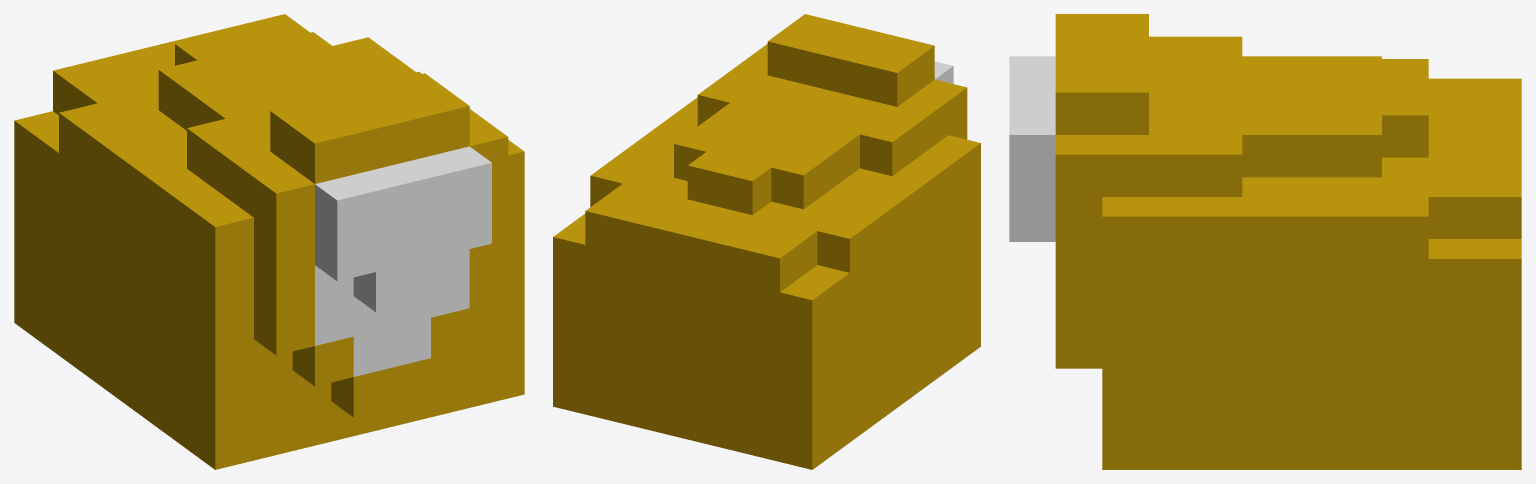
File: dog_body.fbx
3 views of the same model, side by side, from view 1: azimuth 30°, elevation 25°; view 2: azimuth 150°, elevation 25°; view 3: azimuth 270°, elevation 25° (orthographic). The views are drawn at different scales.
Parts seen in each view (by area): view 1: polySurface28; view 2: polySurface28; view 3: polySurface28.
Boxes of the visible parts, x1,y1,x2,y2 form: polySurface28: [14, 14, 524, 469]; polySurface28: [553, 14, 980, 469]; polySurface28: [1009, 14, 1521, 469].
Bounding box in the file's own units: 0.8 × 0.8 × 1.1.
